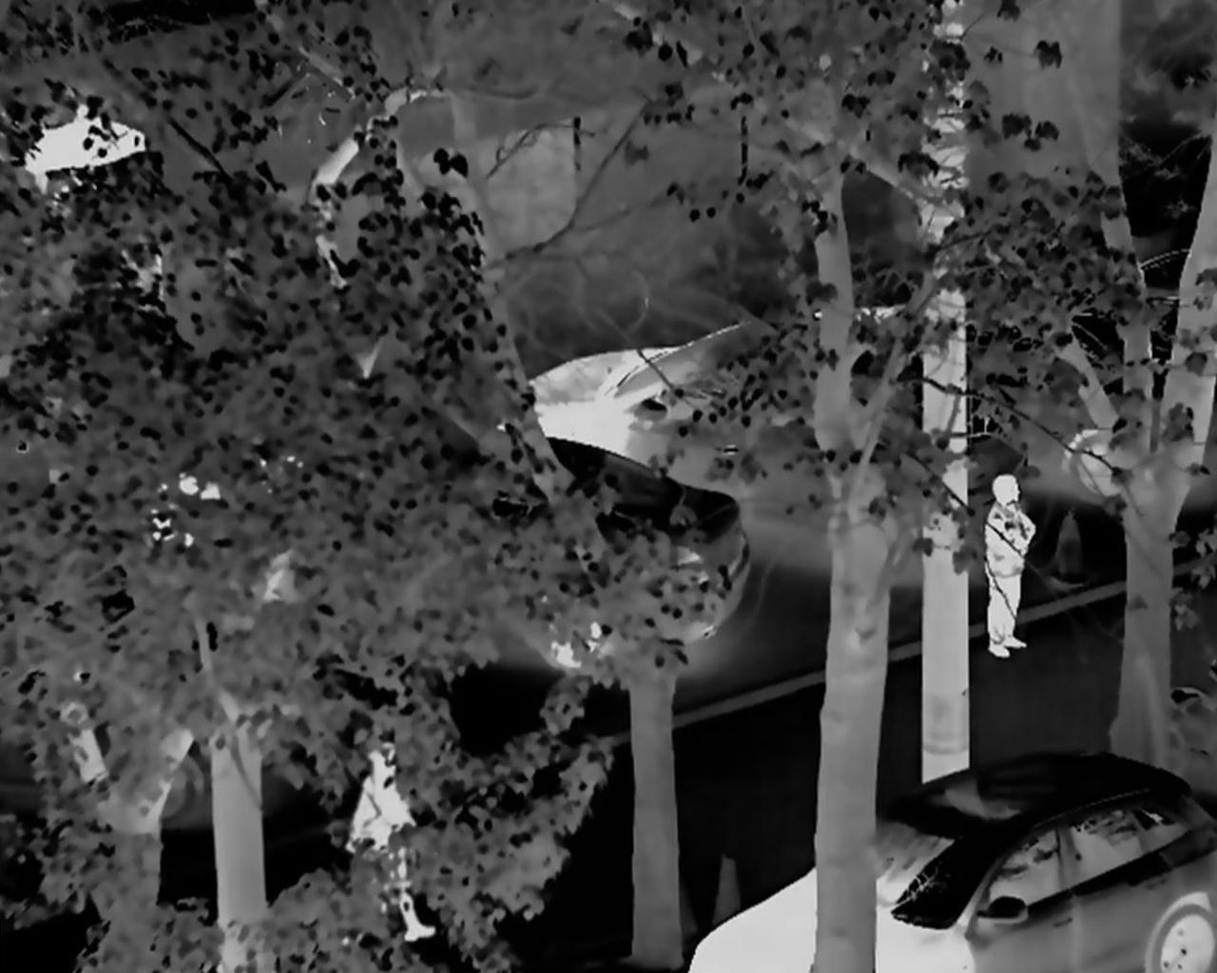person: (344, 743, 433, 949), (976, 465, 1048, 667)
